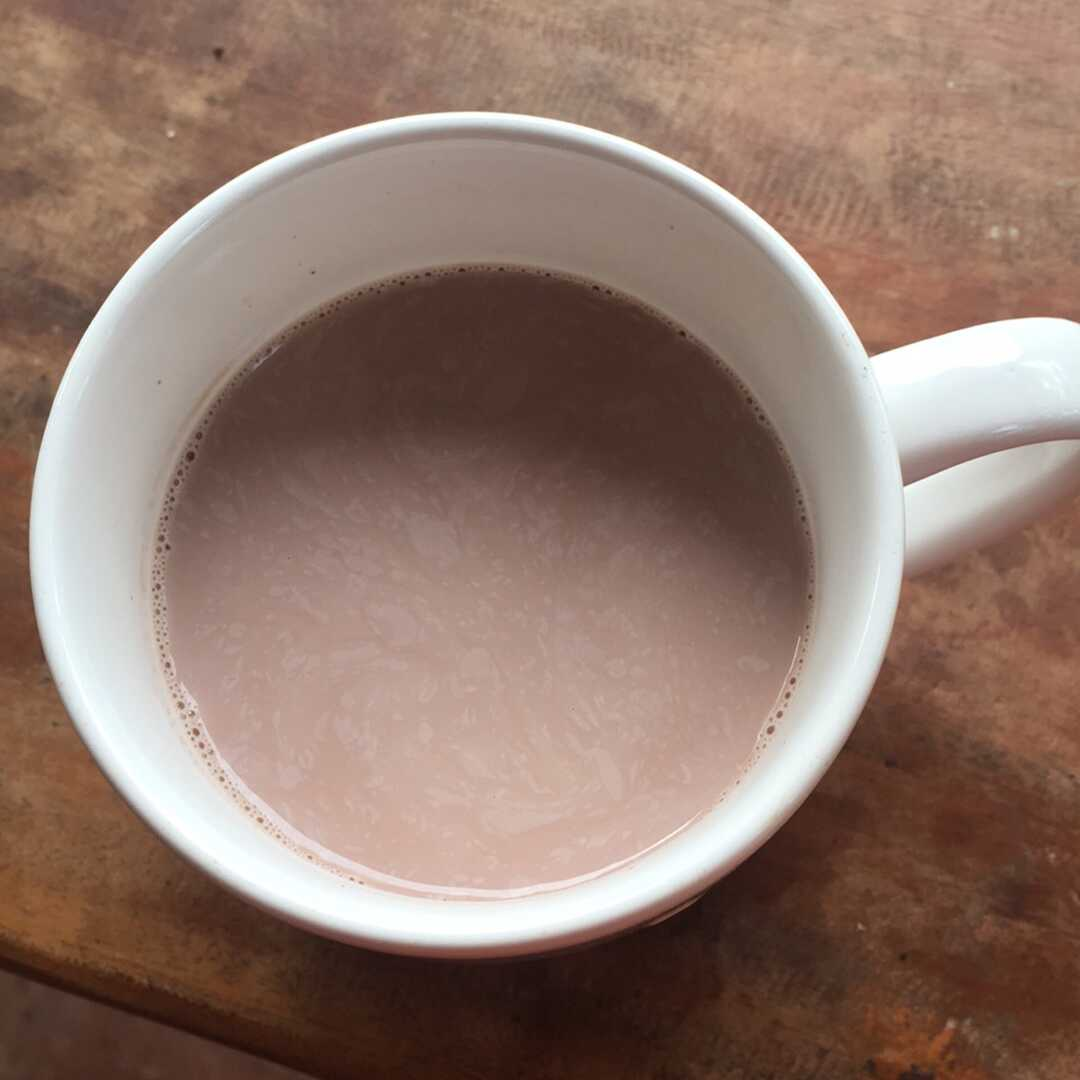produk_susu: (255, 342, 676, 824)
